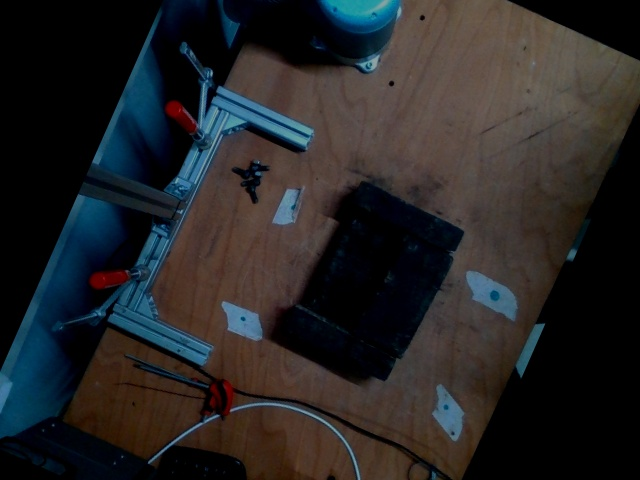brick: (357, 237, 451, 356), (308, 217, 398, 326)
brick-side: (287, 307, 394, 379), (357, 181, 463, 251)
